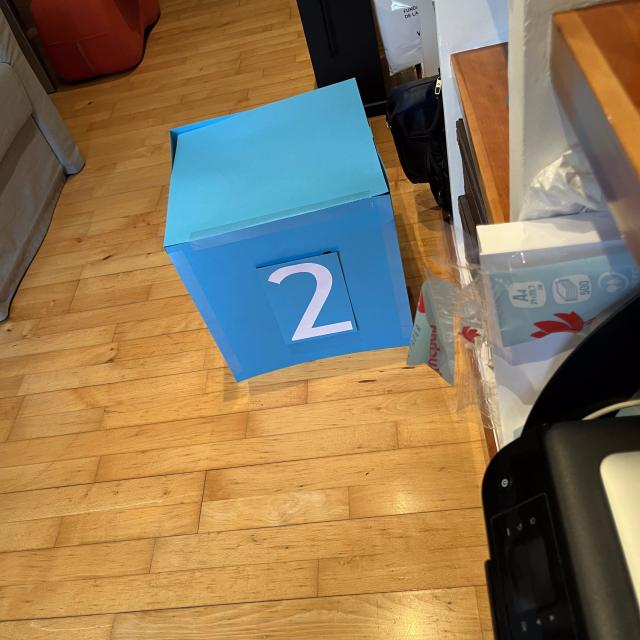box: (159, 76, 417, 384)
